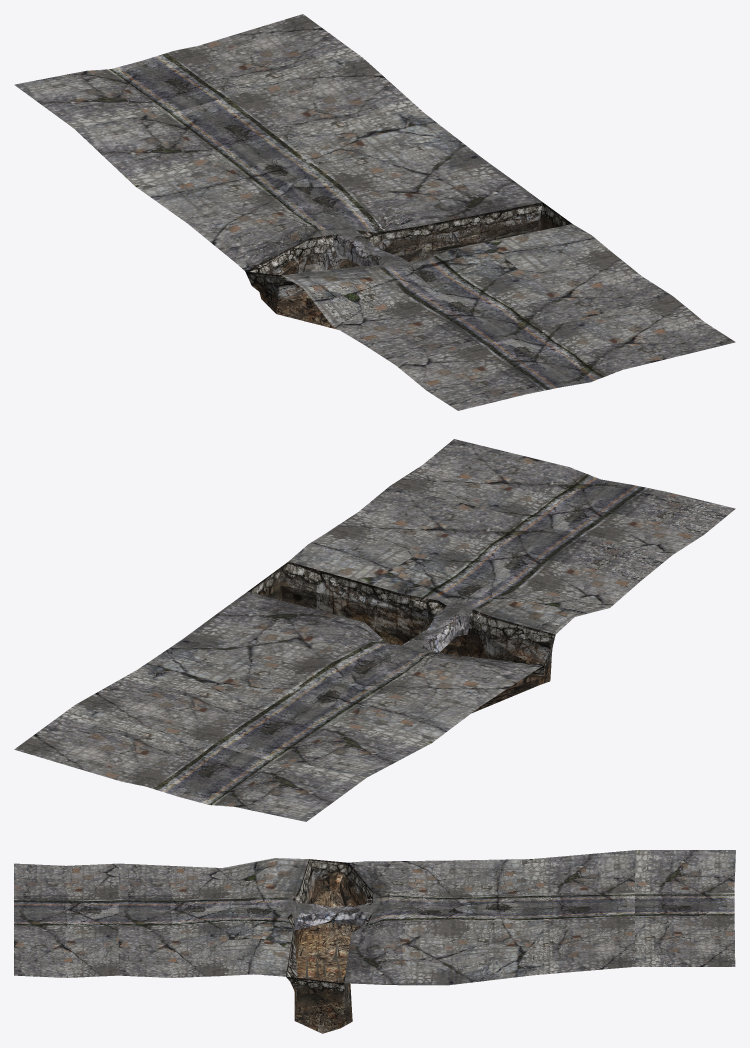
The model's file is terrain_scaled.obj.
3 renders of one model, top to bottom at view 1: azimuth 30°, elevation 25°; view 2: azimuth 150°, elevation 25°; view 3: azimuth 270°, elevation 25°, orthographic. The views are drawn at different scales.
Parts seen in each view (by area): view 1: Terrain; view 2: Terrain; view 3: Terrain.
Boxes of the visible parts, box(x1,y1,x2,y2) form: Terrain: box(14, 14, 735, 410); Terrain: box(14, 439, 735, 821); Terrain: box(14, 850, 735, 1033).
Size of the model in its own units: 288 by 80.87 by 730.
